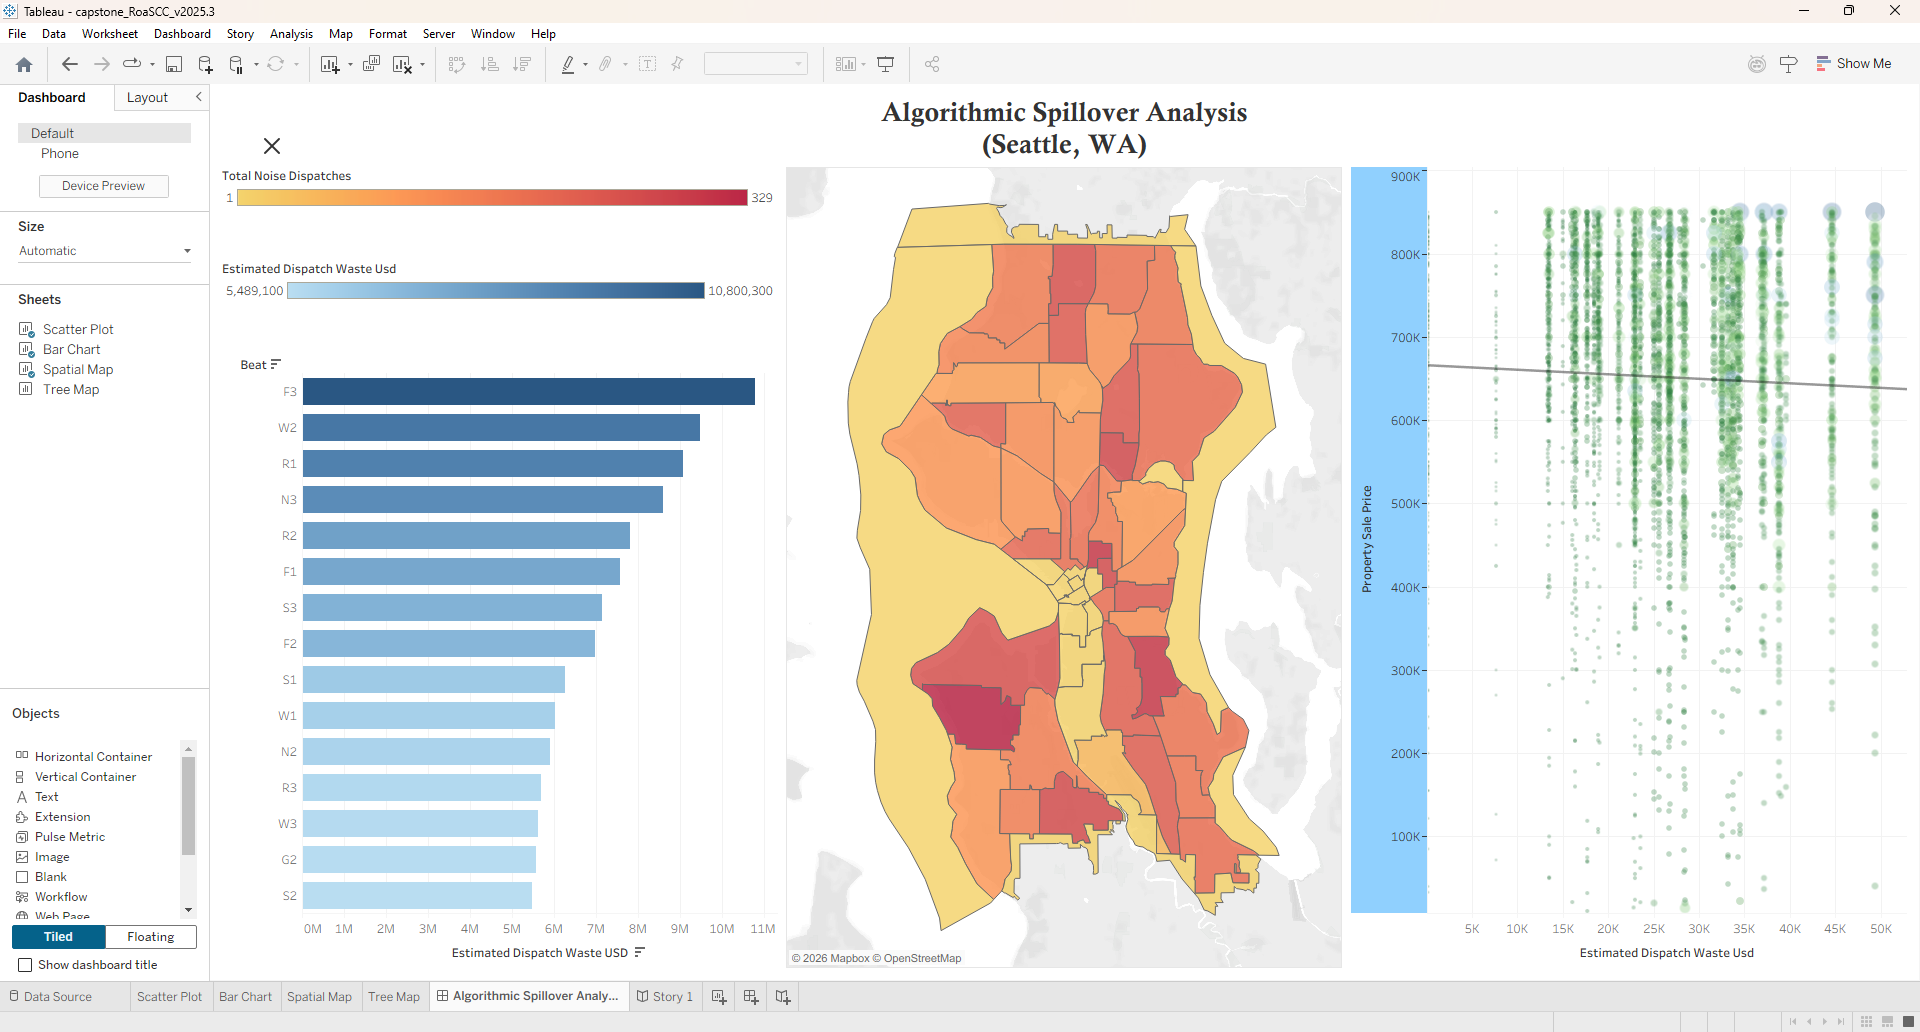

The page's visual inventory and layout, read from the dashboard file:
{"tool":"tableau","page":{"name":"Algorithmic Spillover Analysis","canvas":[1000,1000],"units":"permille","ordinal":0},"visuals":[{"type":"title","box":[4.7,8.9,990.6,79.2]},{"type":"dashboard-object","box":[29.3,55.8,14,26.8]},{"type":"legend","title":"Spatial Map","param":"[federated.0c29unm0mv0xs91fwnyed1r2m0hp].[none:total_noise_dispatches:qk]","box":[4.7,88.2,330,103.8]},{"type":"worksheet","title":"Spatial Map","mark":"Automatic","box":[334.8,88.2,330.2,902.9]},{"type":"worksheet","title":"Scatter Plot","mark":"Automatic","rows":["SalePrice"],"cols":["estimated_dispatch_waste_usd"],"box":[665,88.2,330.3,902.9]},{"type":"legend","title":"Bar Chart","param":"[federated.0c29unm0mv0xs91fwnyed1r2m0hp].[sum:estimated_dispatch_waste_usd:qk]","box":[4.7,192,330,103.8]},{"type":"worksheet","title":"Bar Chart","mark":"Automatic","rows":["beat"],"cols":["estimated_dispatch_waste_usd"],"box":[4.7,295.4,330.1,695.7]}]}

Visuals, with their boxes on the dashboard's canvas, which has no fixed pixel size, in thousandths of its width and height (x1, y1, x2, y2). These are canvas units, not pixel positions in the 1920x1032 screenshot, which may show the page scaled, cropped or inside an application window:
title: region(5, 9, 995, 88)
dashboard-object: region(29, 56, 43, 83)
"Spatial Map" legend: region(5, 88, 335, 192)
"Spatial Map" worksheet: region(335, 88, 665, 991)
"Scatter Plot" worksheet: region(665, 88, 995, 991)
"Bar Chart" legend: region(5, 192, 335, 296)
"Bar Chart" worksheet: region(5, 295, 335, 991)
